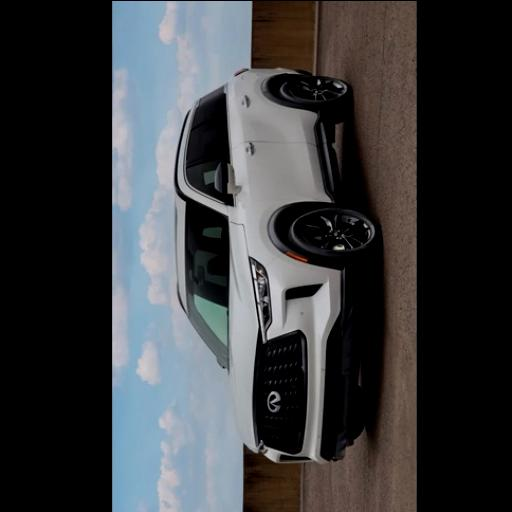suv: (173, 70, 379, 462)
